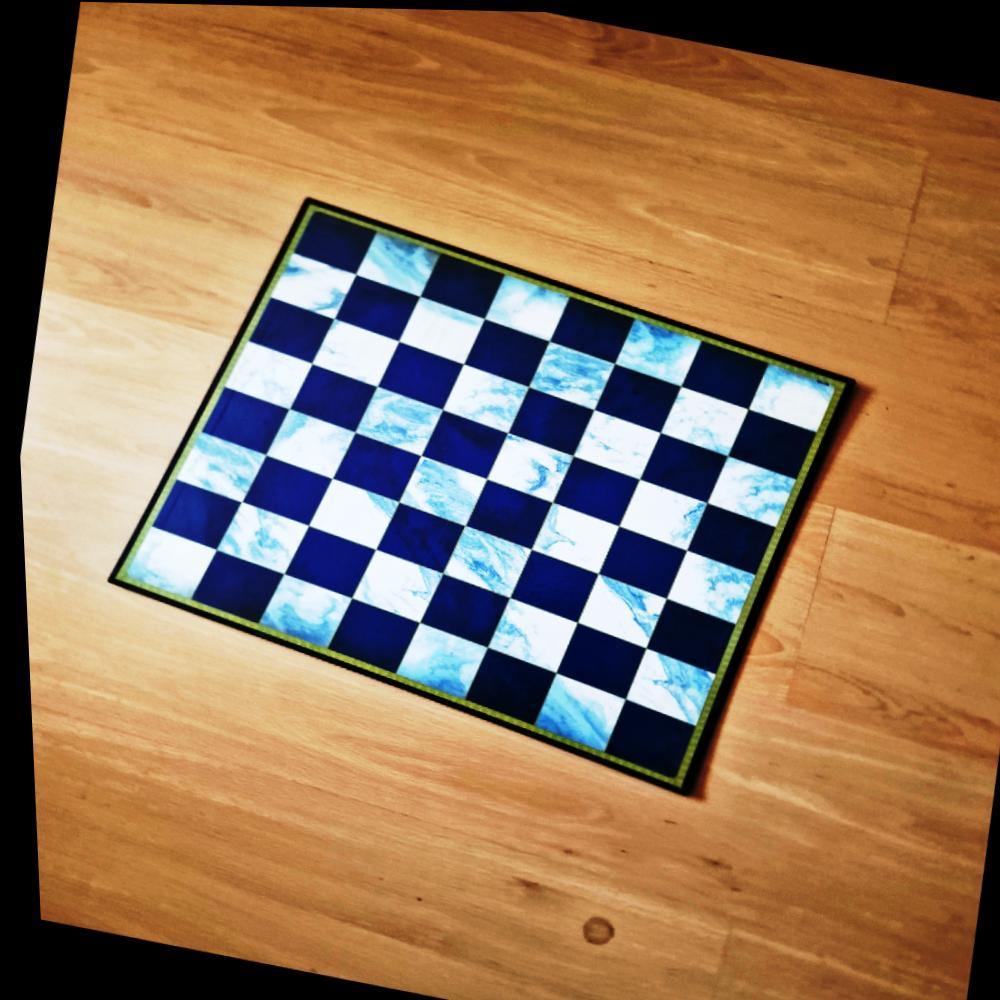chessfield: (389, 619, 490, 703), (481, 594, 582, 675), (258, 575, 357, 655), (211, 498, 311, 577), (527, 669, 622, 751), (622, 647, 715, 730), (344, 543, 439, 622), (663, 549, 759, 627), (612, 314, 709, 390), (395, 453, 490, 530), (743, 357, 839, 433), (601, 700, 693, 779), (529, 503, 623, 580), (619, 475, 714, 551), (438, 361, 534, 436), (436, 523, 530, 599), (659, 380, 754, 455), (286, 524, 381, 599), (268, 406, 363, 481), (551, 624, 643, 701), (305, 479, 398, 555), (506, 547, 600, 622), (310, 313, 404, 388), (394, 292, 489, 366), (482, 430, 577, 504), (640, 597, 732, 673), (322, 598, 415, 673), (569, 409, 663, 483), (482, 268, 576, 342), (132, 523, 222, 600), (239, 455, 331, 530), (465, 647, 557, 722), (593, 526, 687, 599), (548, 452, 642, 525), (353, 386, 446, 459), (418, 570, 508, 645), (529, 337, 620, 411), (180, 437, 272, 510), (371, 502, 464, 574), (705, 455, 795, 529), (568, 573, 653, 650), (350, 230, 439, 303), (225, 343, 315, 415), (419, 410, 511, 480), (287, 365, 379, 435), (192, 554, 281, 626), (678, 338, 768, 409), (640, 434, 731, 504), (333, 431, 422, 502), (375, 338, 465, 408), (461, 317, 552, 386), (158, 482, 246, 553), (685, 500, 773, 571), (512, 390, 601, 460), (461, 482, 550, 552), (726, 407, 815, 476), (291, 207, 380, 276), (595, 364, 685, 432), (205, 387, 291, 457), (277, 256, 364, 325), (420, 252, 509, 319), (252, 298, 341, 365), (547, 297, 633, 366), (335, 275, 422, 343)
